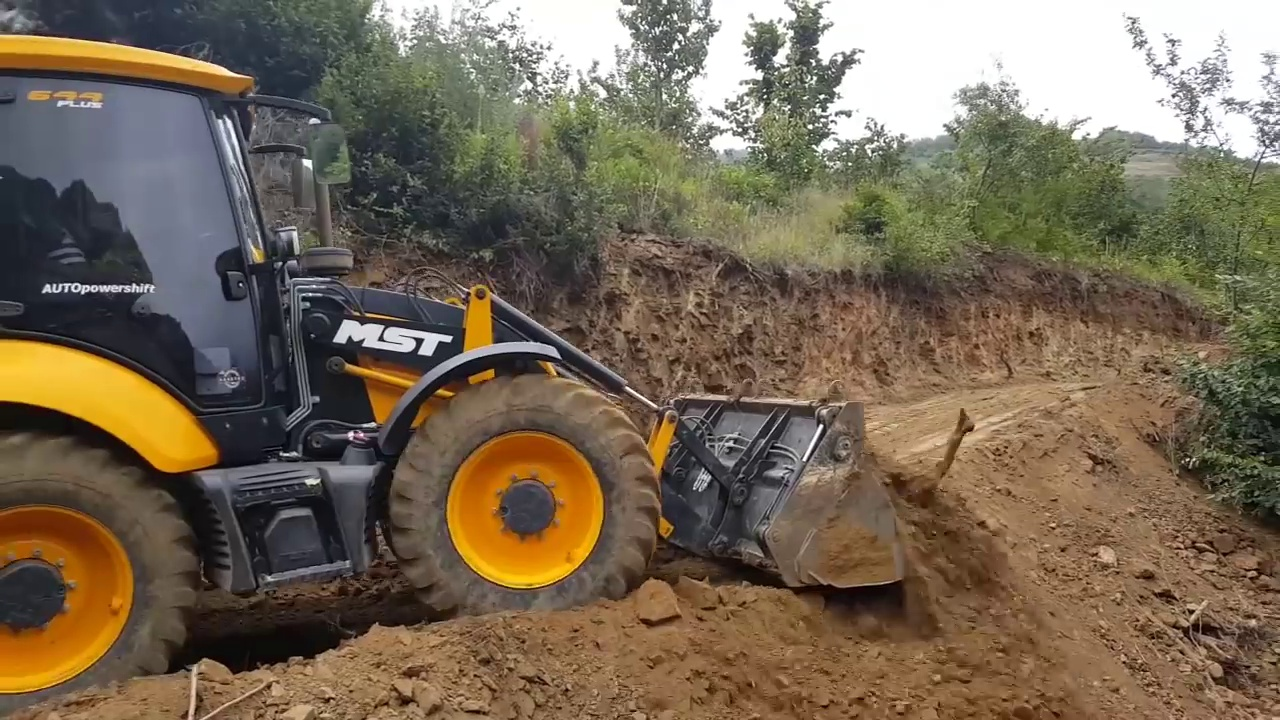wheel loader: (2, 30, 936, 708)
